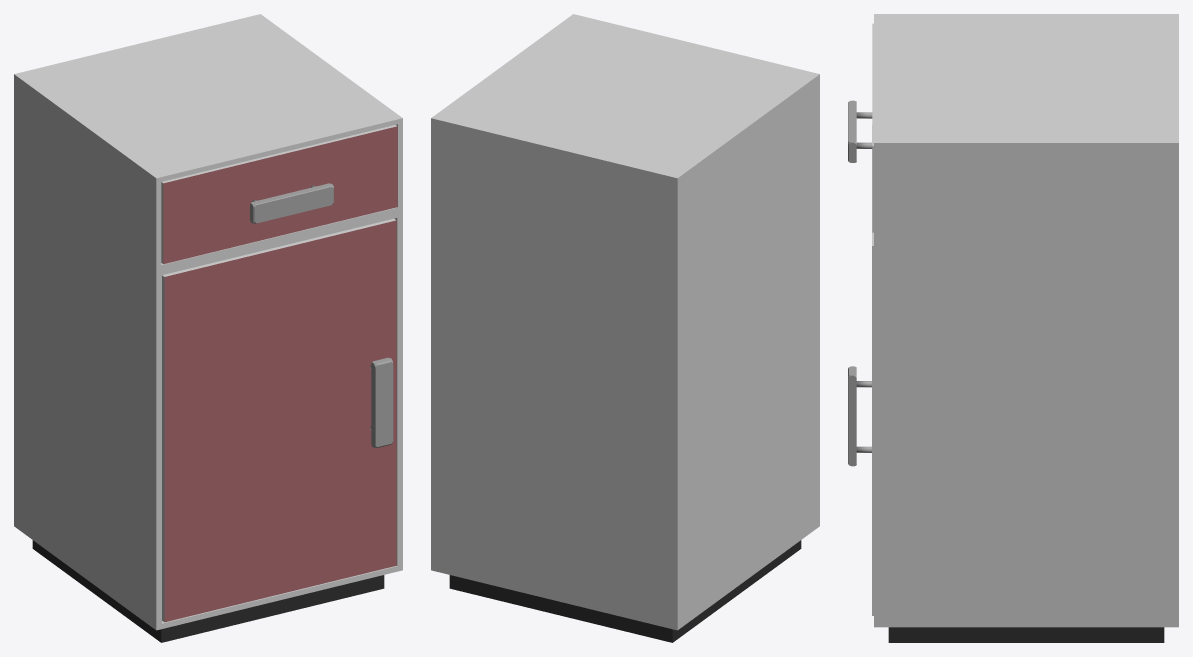
Rendered from cabinet.fbx.
3 renders of one model, left to right at view 1: azimuth 30°, elevation 25°; view 2: azimuth 150°, elevation 25°; view 3: azimuth 270°, elevation 25°, orthographic. The views are drawn at different scales.
Parts seen in each view (by area): view 1: Circle.001; view 2: Circle.001; view 3: Circle.001.
Boxes of the visible parts, x1,y1,x2,y2 form: Circle.001: (14, 14, 402, 642); Circle.001: (431, 14, 819, 642); Circle.001: (848, 14, 1178, 642).
Bounding box in the file's own units: 40 × 73.26 × 43.4.
